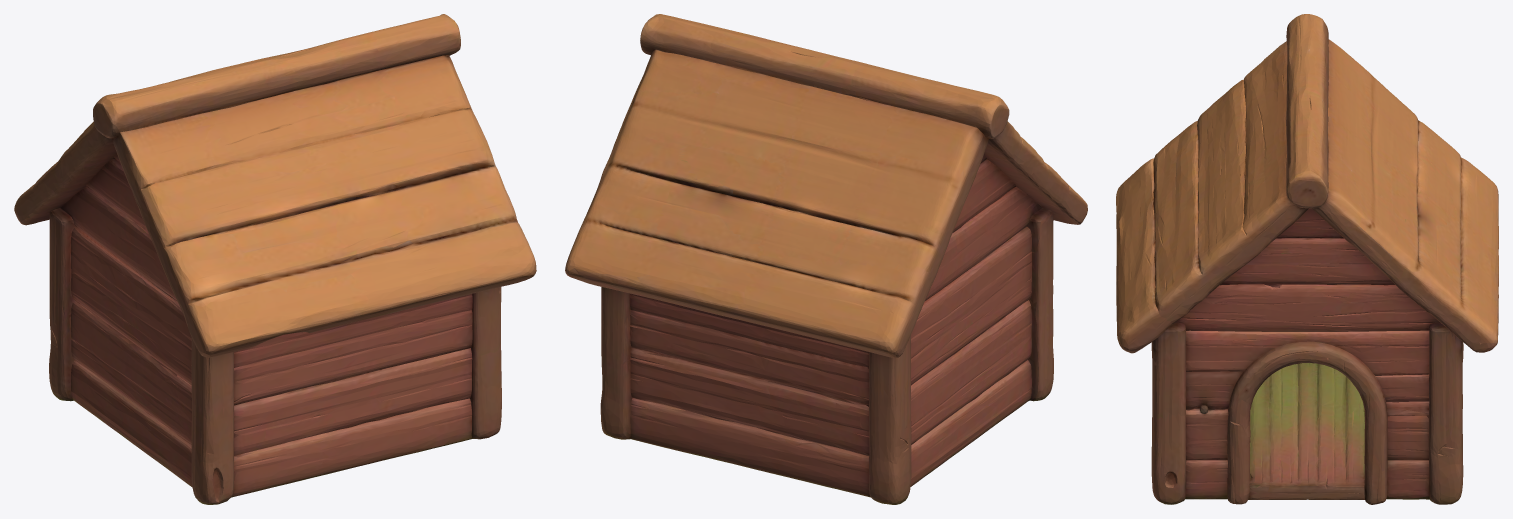
File: DOM_budka_1__tuntun.glb
3 renders of one model, left to right at view 1: azimuth 30°, elevation 25°; view 2: azimuth 150°, elevation 25°; view 3: azimuth 270°, elevation 25°, orthographic. The views are drawn at different scales.
Visible parts, largest first — view 1: tripo_node_dac7b90f-b9d1-479c-9527-e18f0ee765bd; view 2: tripo_node_dac7b90f-b9d1-479c-9527-e18f0ee765bd; view 3: tripo_node_dac7b90f-b9d1-479c-9527-e18f0ee765bd.
Boxes of the visible parts, x1=… form: tripo_node_dac7b90f-b9d1-479c-9527-e18f0ee765bd: x1=14, y1=14, x2=536, y2=504; tripo_node_dac7b90f-b9d1-479c-9527-e18f0ee765bd: x1=565, y1=14, x2=1087, y2=504; tripo_node_dac7b90f-b9d1-479c-9527-e18f0ee765bd: x1=1116, y1=14, x2=1498, y2=504.
Size of the model in its own units: 1 by 0.9777 by 0.9836.
Materials: 1 (1 with a texture image).
